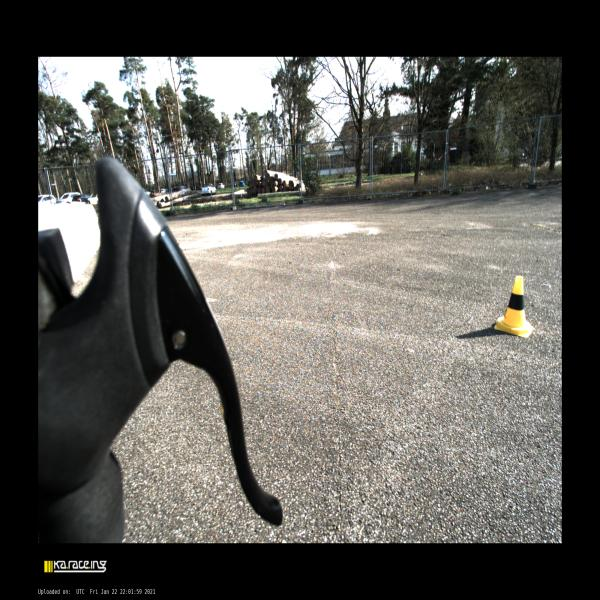yellow_cone: (494, 276, 534, 338)
